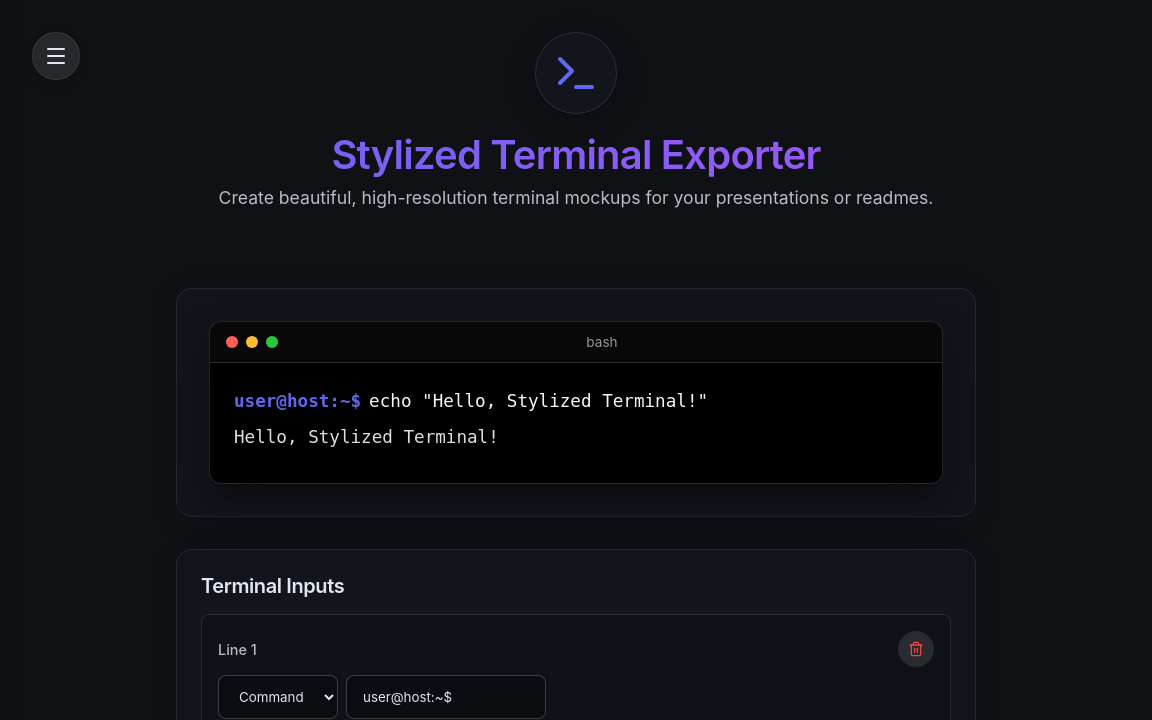
Test case: App Component › inherits PS1 from the last command when adding a new one
Get the first command line and change its PS1
Replace the text in the field showing "user@host:~$" with "custom@ps1:$" at (446, 697), box [346,675,546,719]
(page scrolled)
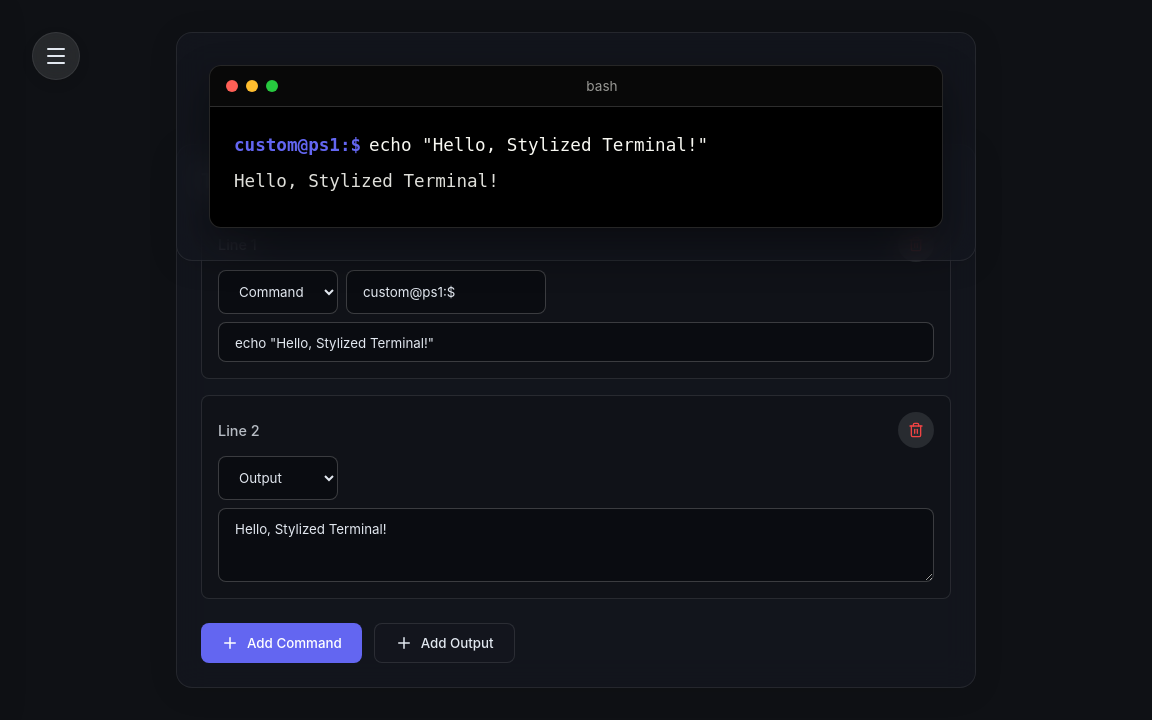
Add a new command
Click the button "Add Command".
click(281, 643)  # box [201,623,362,663]
(page scrolled)
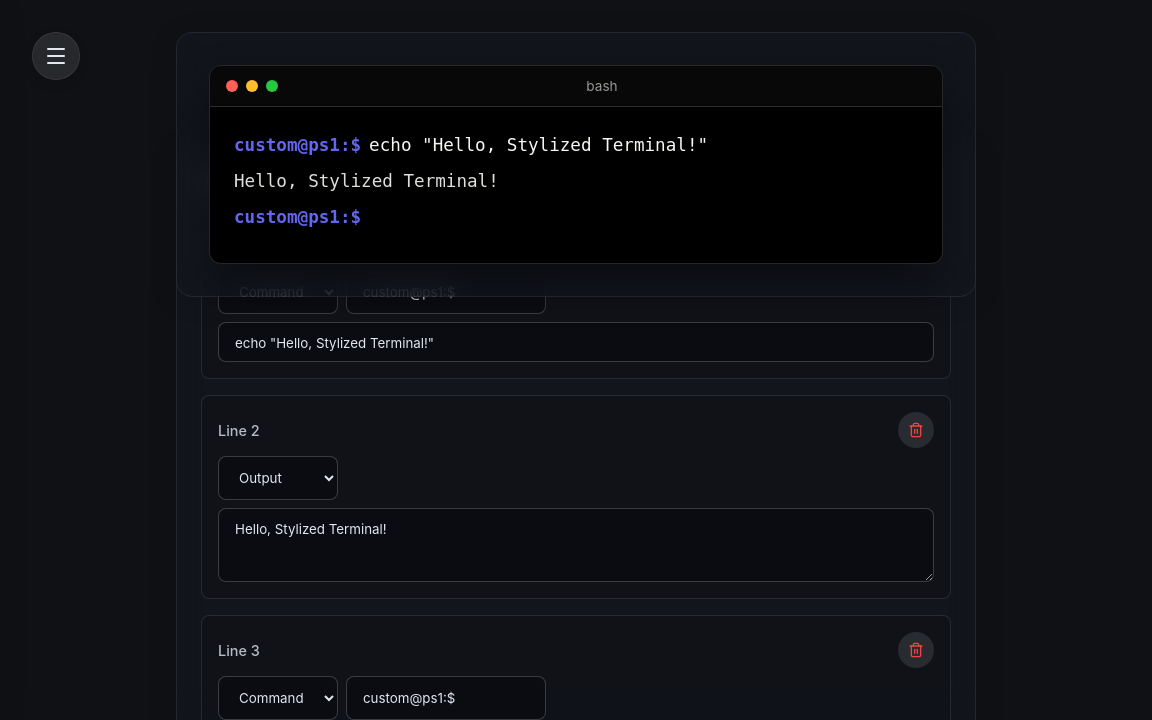
Expected: the number of fields showing "custom@ps1:$" is 2, [346,270,546,314]; [346,676,546,719]
